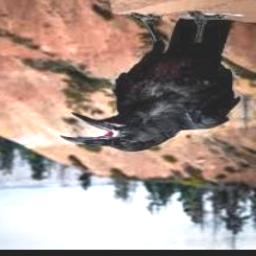Crow: (61, 20, 248, 153)
